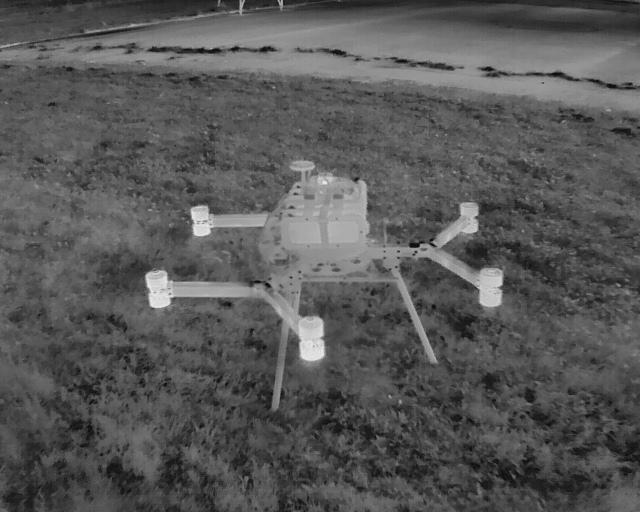drone: (146, 153, 510, 438)
